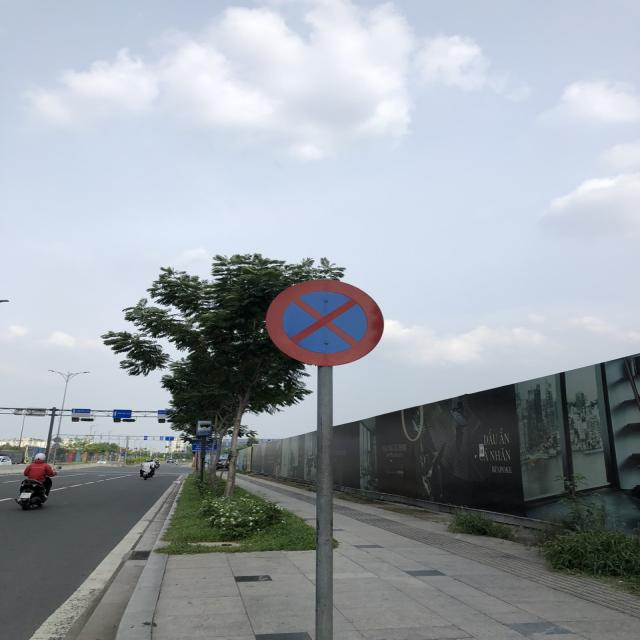Bien bao cam dung xe va do xe: (263, 276, 390, 370)
